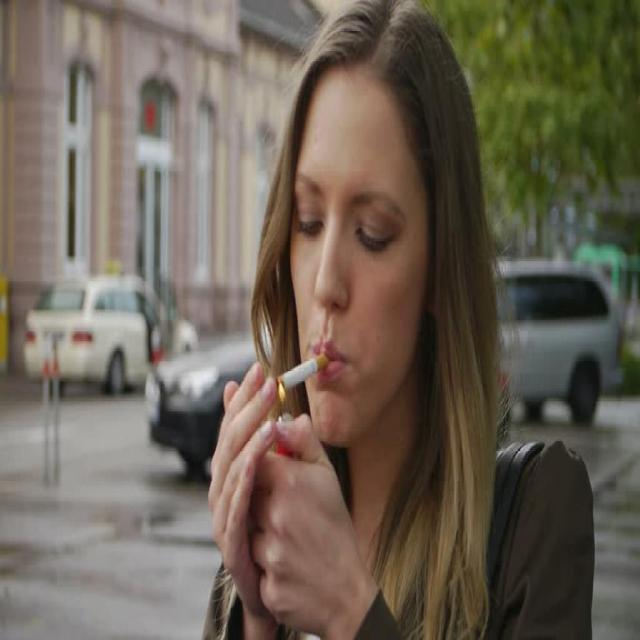smoking: (208, 11, 483, 633)
